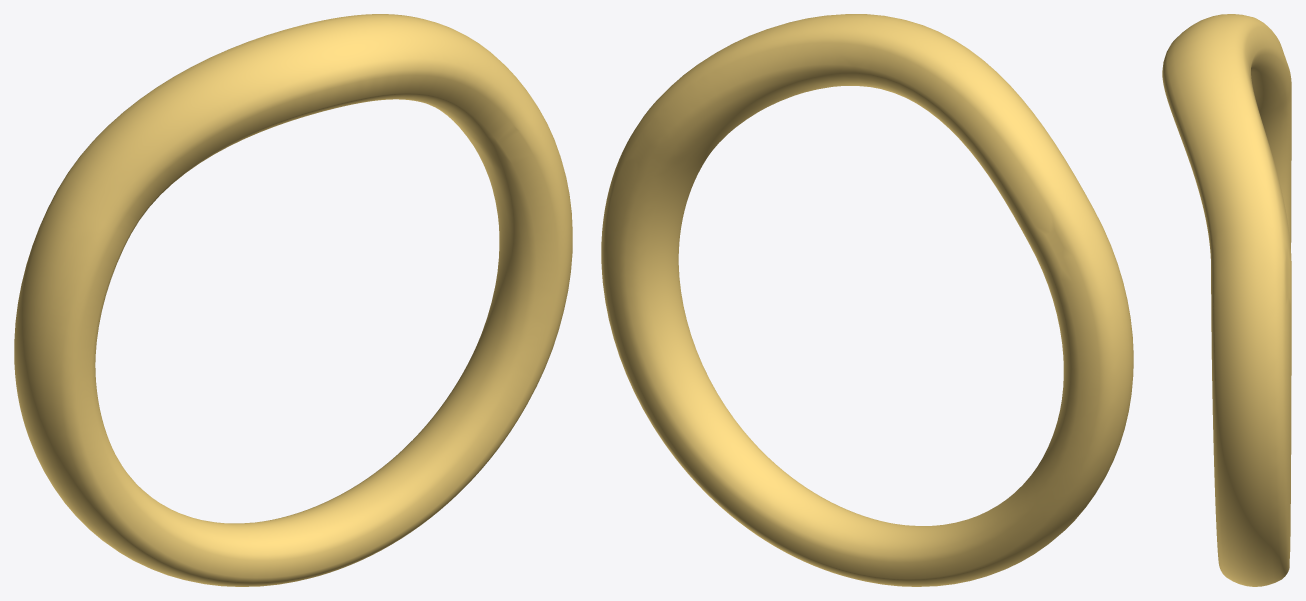
Rendered from v2AbiWBonly_blender.glb.
3 renders of one model, left to right at view 1: azimuth 30°, elevation 25°; view 2: azimuth 150°, elevation 25°; view 3: azimuth 270°, elevation 25°, orthographic. The views are drawn at different scales.
Parts seen in each view (by area): view 1: v2 Abi YG wb for 3d model; view 2: v2 Abi YG wb for 3d model; view 3: v2 Abi YG wb for 3d model.
Boxes of the visible parts, bbox=[...] form: v2 Abi YG wb for 3d model: bbox=[14, 14, 572, 586]; v2 Abi YG wb for 3d model: bbox=[601, 14, 1133, 586]; v2 Abi YG wb for 3d model: bbox=[1162, 14, 1291, 586].
Size of the model in its own units: 20.83 by 20.59 by 4.65.
